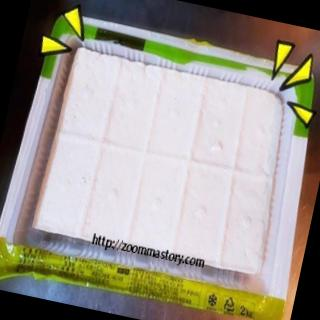Tahu: (28, 45, 305, 297)
